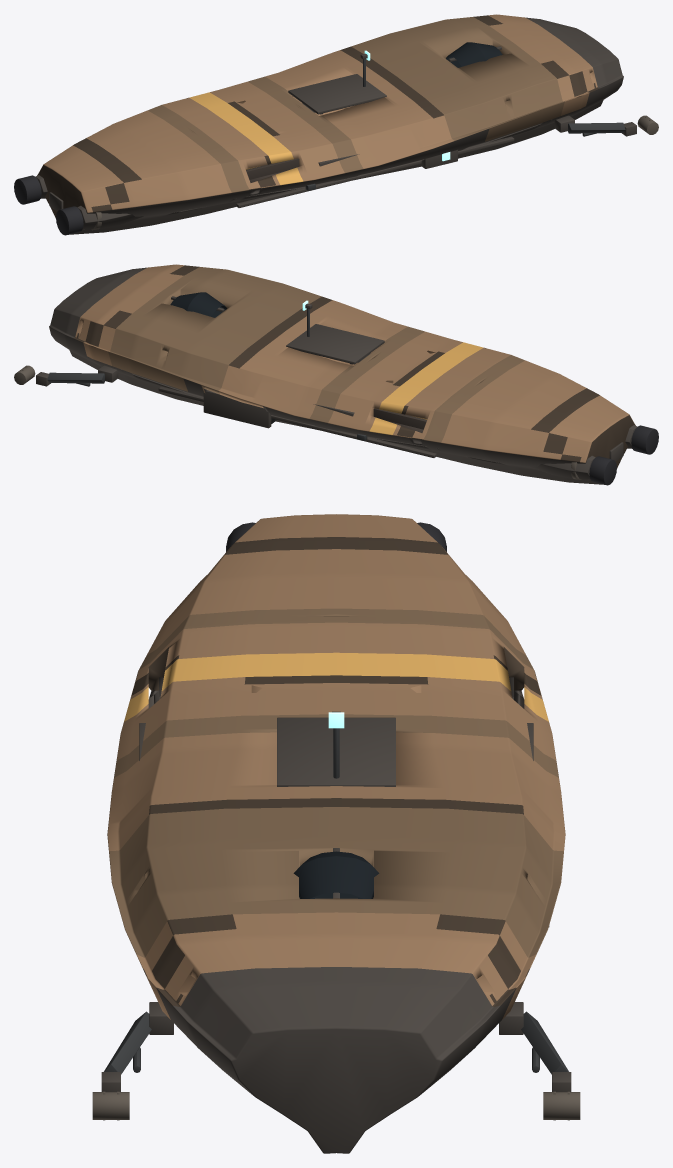
Rendered from pelican_c1_lod0.glb.
The picture shows the model from 3 angles, top to bottom: view 1: azimuth 30°, elevation 25°; view 2: azimuth 150°, elevation 25°; view 3: azimuth 270°, elevation 25°; orthographic projection. The views are drawn at different scales.
Parts seen in each view (by area): view 1: LOD0_Hull, LOD0_ArmKnuckle_P, LOD0_Canopy, LOD0_AftWalk, LOD0_Bell_Starboard, LOD0_Bell_Port, LOD0_RadFin_P_0, LOD0_CutterDrum_P; view 2: LOD0_Hull, LOD0_ArmKnuckle_P, LOD0_Canopy, LOD0_AftWalk, LOD0_Bell_Port, LOD0_Bell_Starboard, LOD0_RadFin_P_0, LOD0_CutterDrum_P; view 3: LOD0_Hull, LOD0_ArmKnuckle_P, LOD0_Canopy, LOD0_AftWalk, LOD0_CutterDrum_P.
Part boxes in pixels (x1,y1,x2,y2): LOD0_Hull: (37, 14, 623, 234); LOD0_ArmKnuckle_P: (35, 46, 636, 229); LOD0_Canopy: (446, 42, 502, 67); LOD0_AftWalk: (302, 58, 625, 190); LOD0_Bell_Starboard: (14, 175, 41, 204); LOD0_Bell_Port: (56, 206, 83, 235); LOD0_RadFin_P_0: (246, 158, 299, 182); LOD0_CutterDrum_P: (41, 115, 658, 230); LOD0_Hull: (49, 264, 635, 484); LOD0_ArmKnuckle_P: (36, 296, 637, 479); LOD0_Canopy: (170, 292, 226, 317); LOD0_AftWalk: (47, 308, 370, 440); LOD0_Bell_Port: (631, 425, 658, 454); LOD0_Bell_Starboard: (589, 456, 616, 485); LOD0_RadFin_P_0: (373, 408, 426, 432); LOD0_CutterDrum_P: (14, 365, 631, 480); LOD0_Hull: (107, 514, 565, 1153); LOD0_ArmKnuckle_P: (101, 711, 571, 1091); LOD0_Canopy: (293, 851, 379, 898); LOD0_AftWalk: (104, 728, 568, 1074); LOD0_CutterDrum_P: (92, 1091, 580, 1120).
Size of what is drawn, in the model's own units: 14.55 by 3.07 by 5.52.
